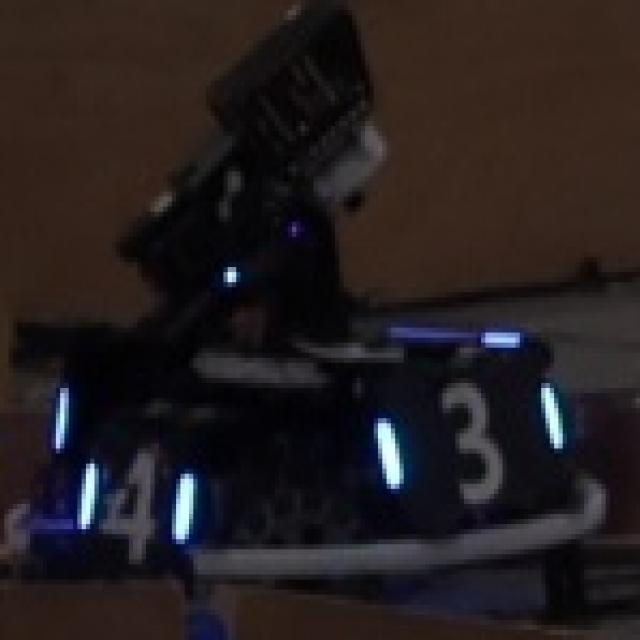B3: (373, 368, 562, 504)
B4: (73, 444, 193, 564)
